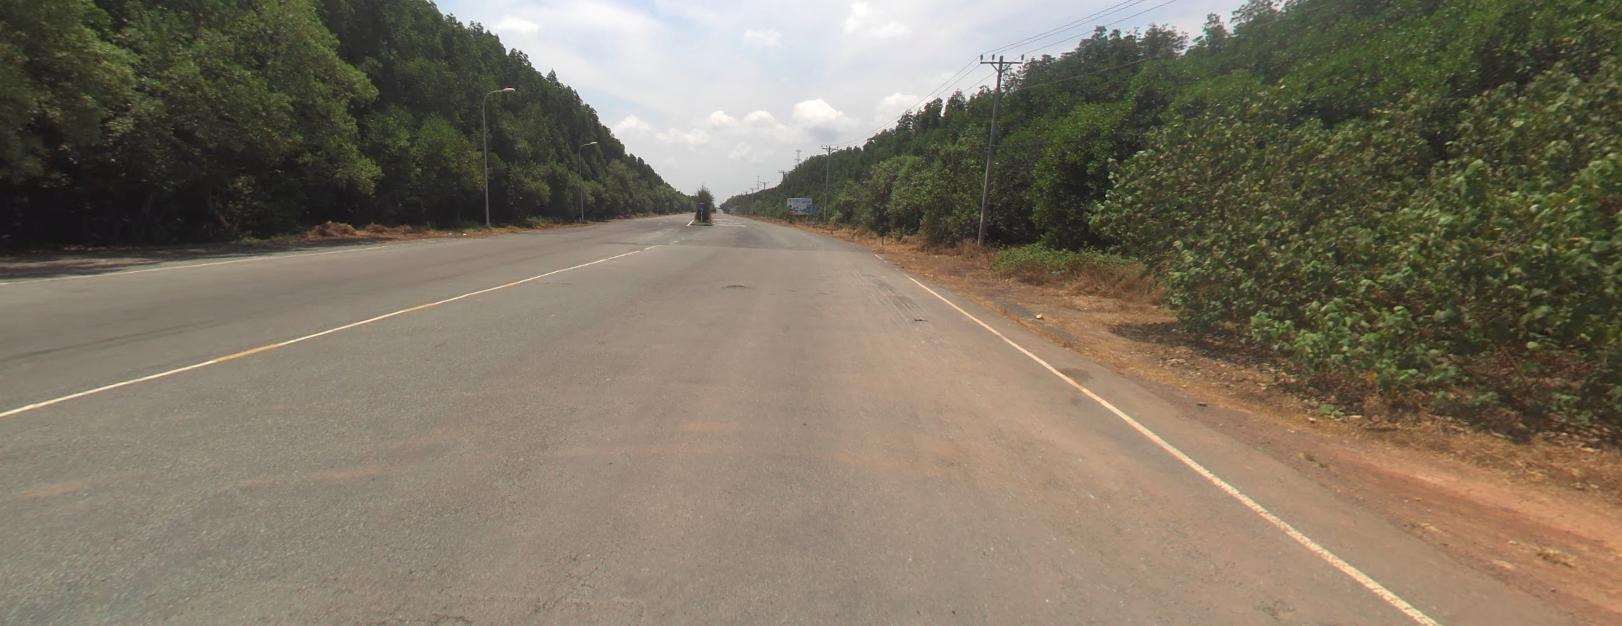Cam nguoc chieu: (699, 198, 704, 203)
Hieu lenh: (699, 204, 704, 209)
